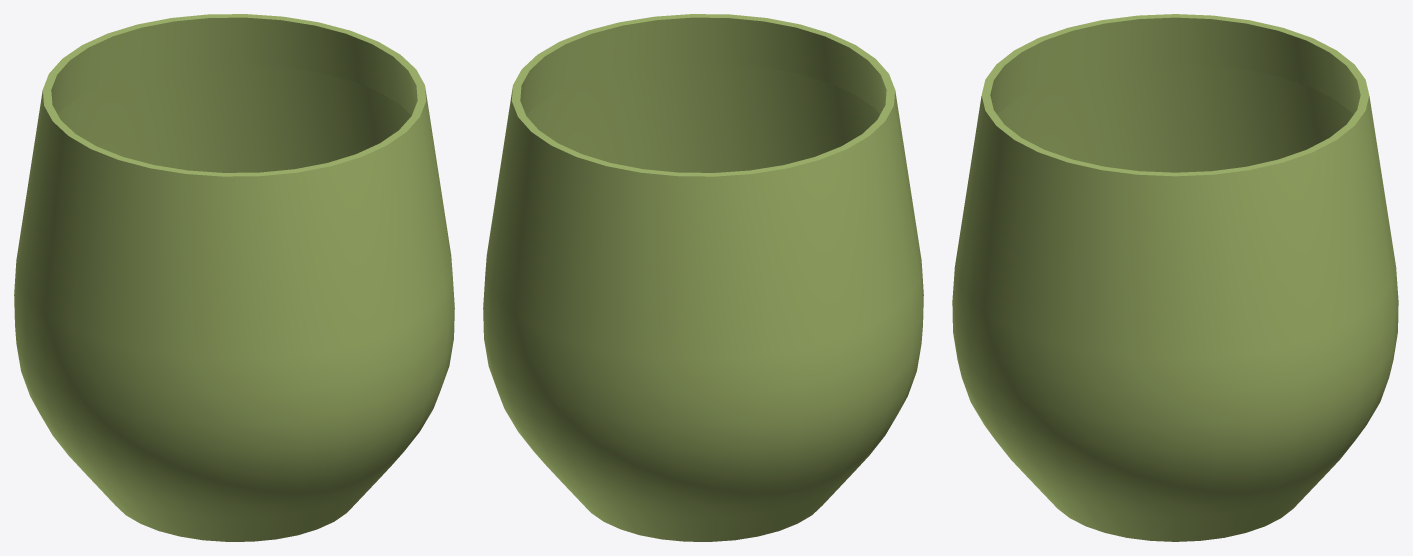
Rendered from pot.glb.
3 renders of one model, left to right at view 1: azimuth 30°, elevation 25°; view 2: azimuth 150°, elevation 25°; view 3: azimuth 270°, elevation 25°, orthographic.
Parts seen in each view (by area): view 1: pot fat tall.002_2; view 2: pot fat tall.002_2; view 3: pot fat tall.002_2.
Part boxes in pixels (x1,y1,x2,y2): pot fat tall.002_2: [14, 14, 454, 541]; pot fat tall.002_2: [483, 14, 923, 541]; pot fat tall.002_2: [952, 14, 1398, 541].
Bounding box in the file's own units: 0.0892 × 0.0878 × 0.0902.
